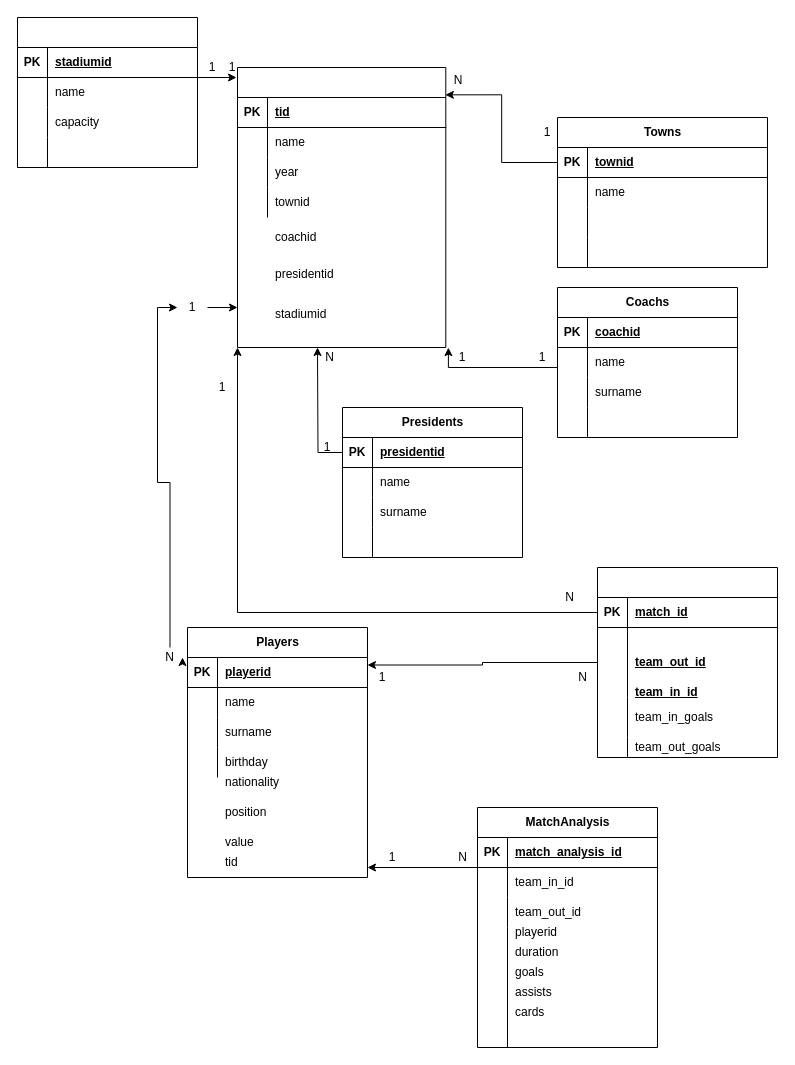
The diagram is 795 pixels wide and 1065 high, and some of its shapes have lost their labels. Each missing label, with the box of its shape:
Matches: (596, 566, 778, 758)
Stadiums: (16, 16, 198, 168)
Teams: (236, 66, 446, 348)
